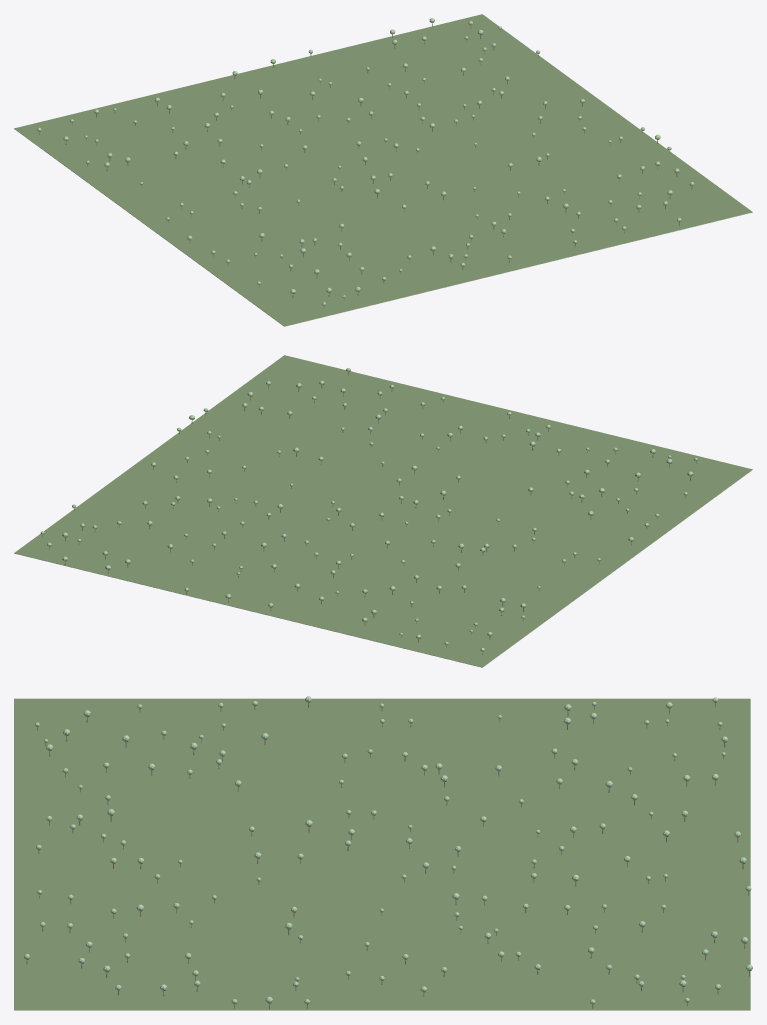
Rendered from chunk_3_1_high.glb.
3 views of the same model, one above another, from view 1: azimuth 30°, elevation 25°; view 2: azimuth 150°, elevation 25°; view 3: azimuth 270°, elevation 25° (orthographic). The views are drawn at different scales.
Visible parts, largest first — view 1: city_forest_floor, city_foliage, city_foliage_dark, city_grass, city_bark; view 2: city_forest_floor, city_foliage, city_foliage_dark, city_grass, city_bark; view 3: city_forest_floor, city_foliage, city_foliage_dark, city_bark, city_grass.
Boxes of the visible parts, x1=… form: city_forest_floor: x1=14, y1=14, x2=752, y2=326; city_foliage: x1=37, y1=18, x2=694, y2=305; city_foliage_dark: x1=37, y1=19, x2=691, y2=304; city_grass: x1=14, y1=129, x2=752, y2=326; city_bark: x1=39, y1=23, x2=692, y2=307; city_forest_floor: x1=14, y1=355, x2=752, y2=667; city_foliage: x1=41, y1=368, x2=697, y2=651; city_foliage_dark: x1=40, y1=368, x2=698, y2=651; city_grass: x1=14, y1=470, x2=752, y2=667; city_bark: x1=42, y1=372, x2=696, y2=654; city_forest_floor: x1=14, y1=698, x2=750, y2=1009; city_foliage: x1=24, y1=696, x2=752, y2=1004; city_foliage_dark: x1=25, y1=698, x2=751, y2=1004; city_bark: x1=26, y1=703, x2=749, y2=1009; city_grass: x1=14, y1=1010, x2=750, y2=1010.
Size of the model in its own units: 513 by 9.73 by 514.
